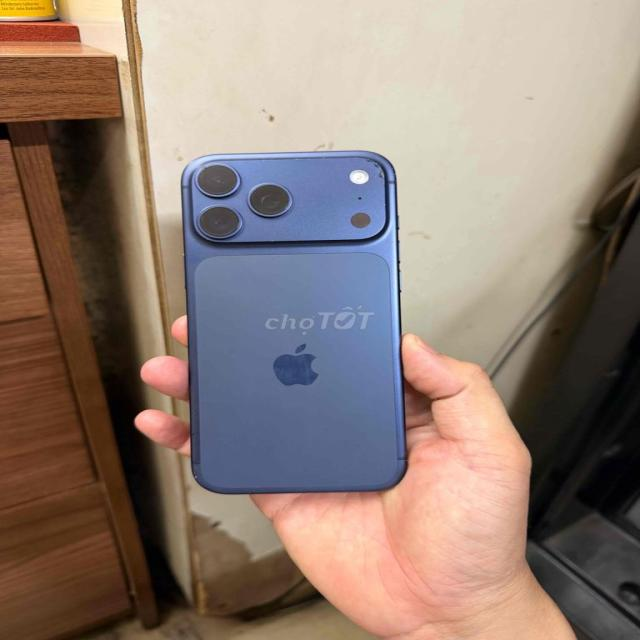scratch: (325, 138, 407, 201)
